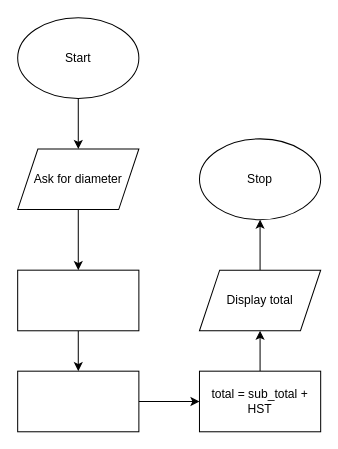
Some shapes in this 338 by 449 pixel diagram are drawn without their labels. The centre of each missing label's shape, as x and y in pixels:
HST = sub_total * 0.13: pixel 78 401
sub_total = 0.75 + 1.00 + (0.5 * diameter): pixel 78 300
